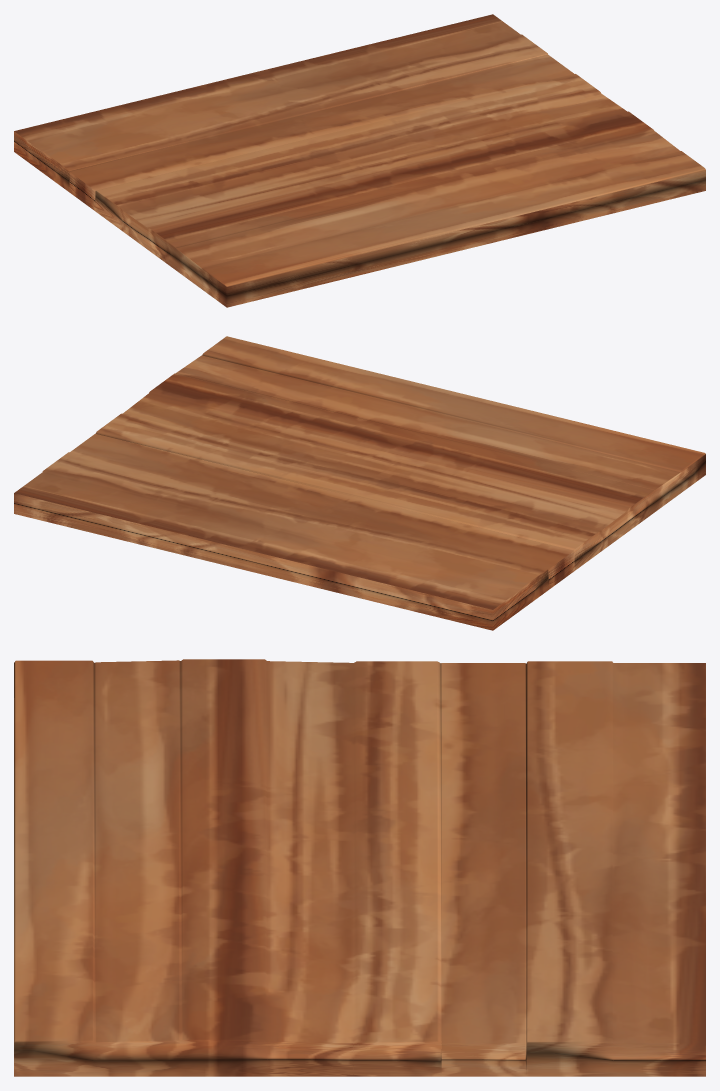
The model's file is escenariomenudeinciioprops.fbx.
The picture shows the model from 3 angles, top to bottom: view 1: azimuth 30°, elevation 25°; view 2: azimuth 150°, elevation 25°; view 3: azimuth 270°, elevation 25°; orthographic projection. The views are drawn at different scales.
Visible parts, largest first — view 1: Cube.014; view 2: Cube.014; view 3: Cube.014.
Boxes of the visible parts, <box> form: Cube.014: <box>14,14,705,307</box>; Cube.014: <box>14,336,705,630</box>; Cube.014: <box>14,659,705,1076</box>.
Size of the model in its own units: 1469 by 66.97 by 1131.
